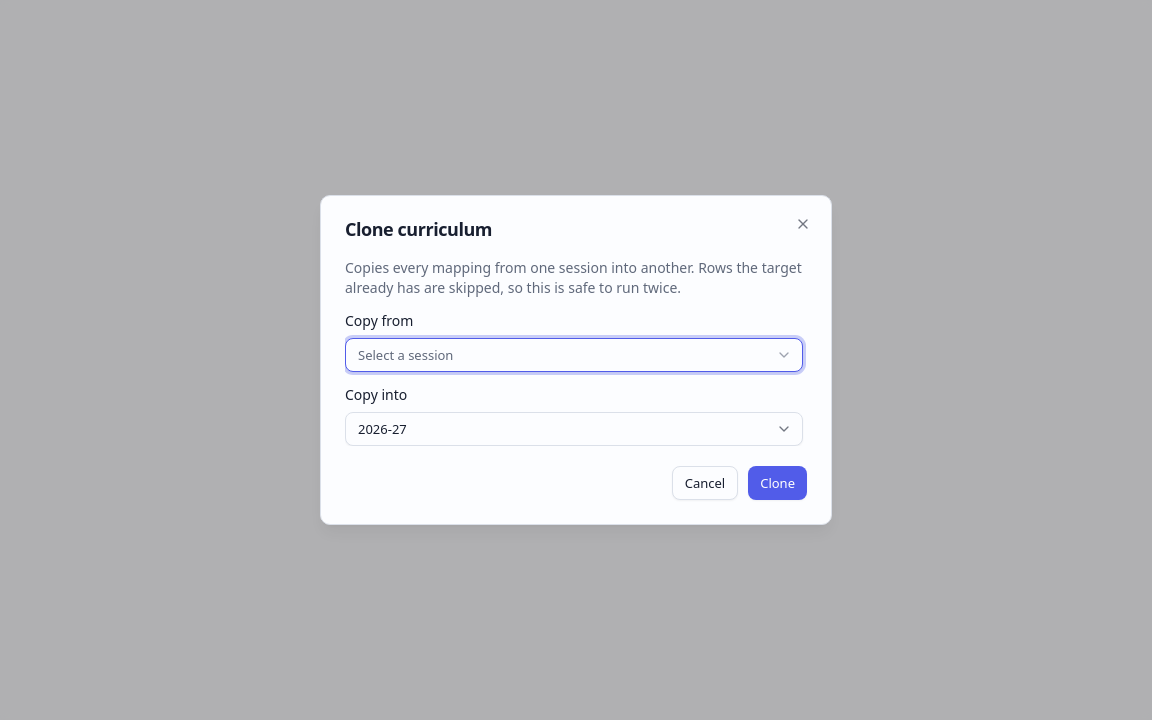
Test case: CloneCurriculumDialog › clears the source when the target moves onto it
Click the dropdown named "Copy from". click: x=406, y=355
box: top-left (345, 338), bottom-right (803, 372)
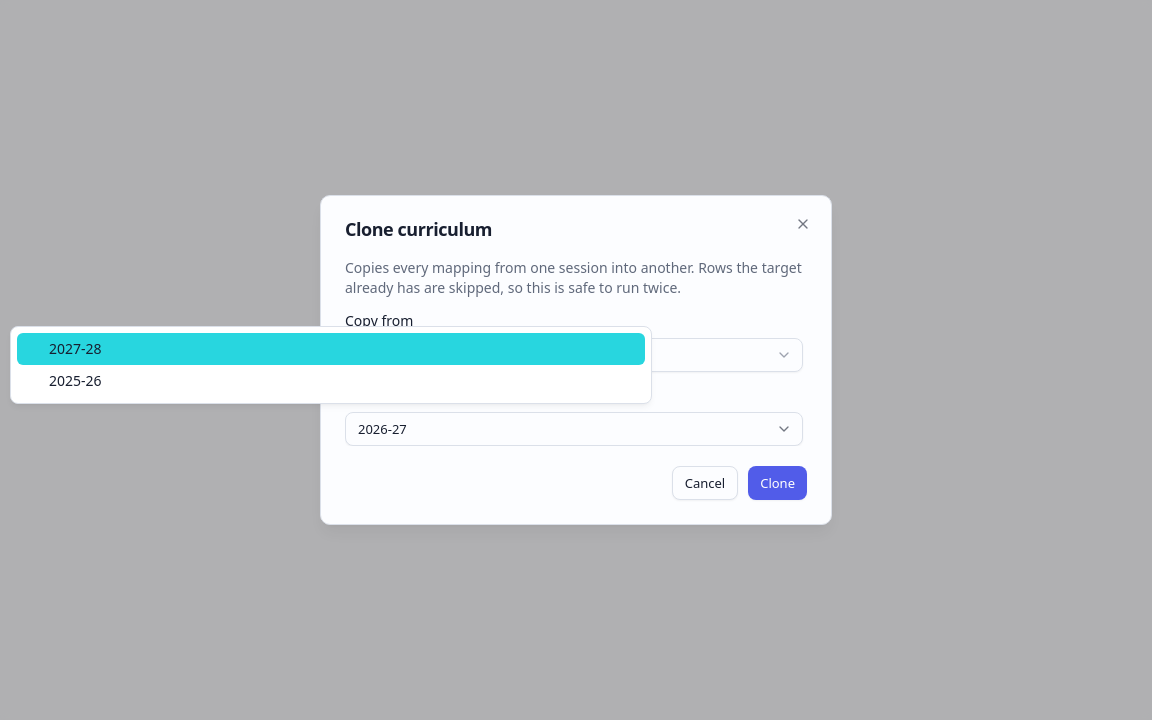
Click the option "2027-28". click: x=75, y=348
box: top-left (17, 333), bottom-right (645, 365)
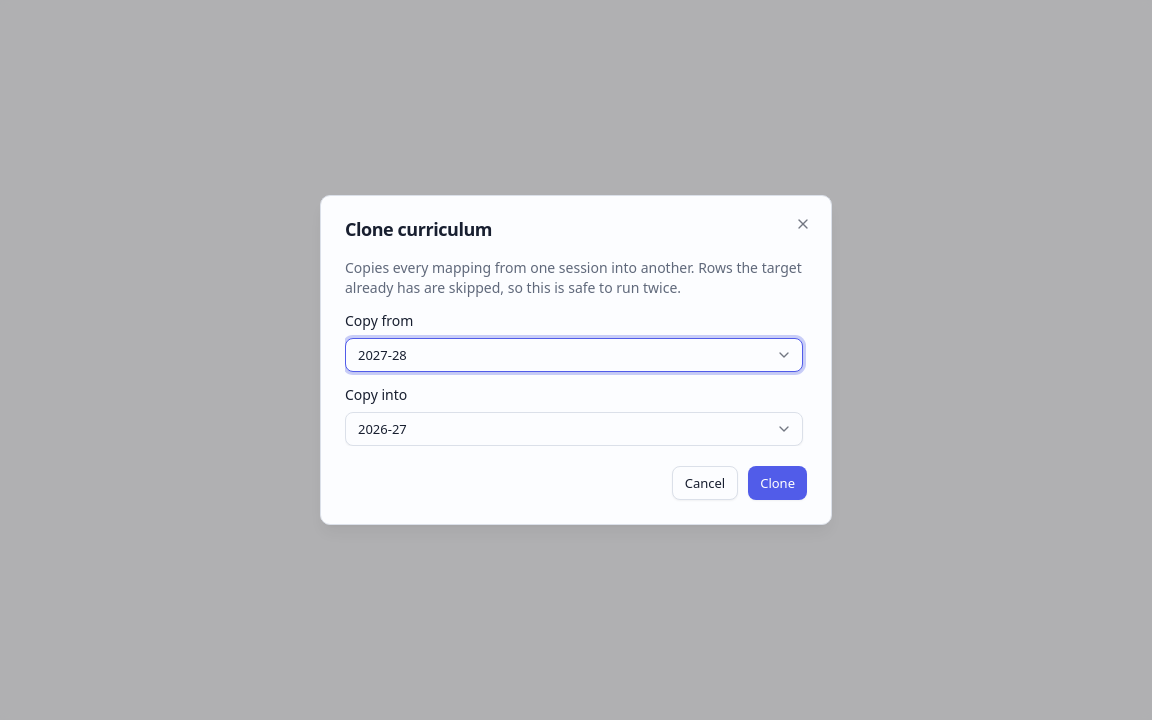
Check: the dropdown named "Copy from" reads "2027-28", box top-left (345, 338), bottom-right (803, 372)
Click the dropdown named "Copy into". click: x=382, y=429
box: top-left (345, 412), bottom-right (803, 446)
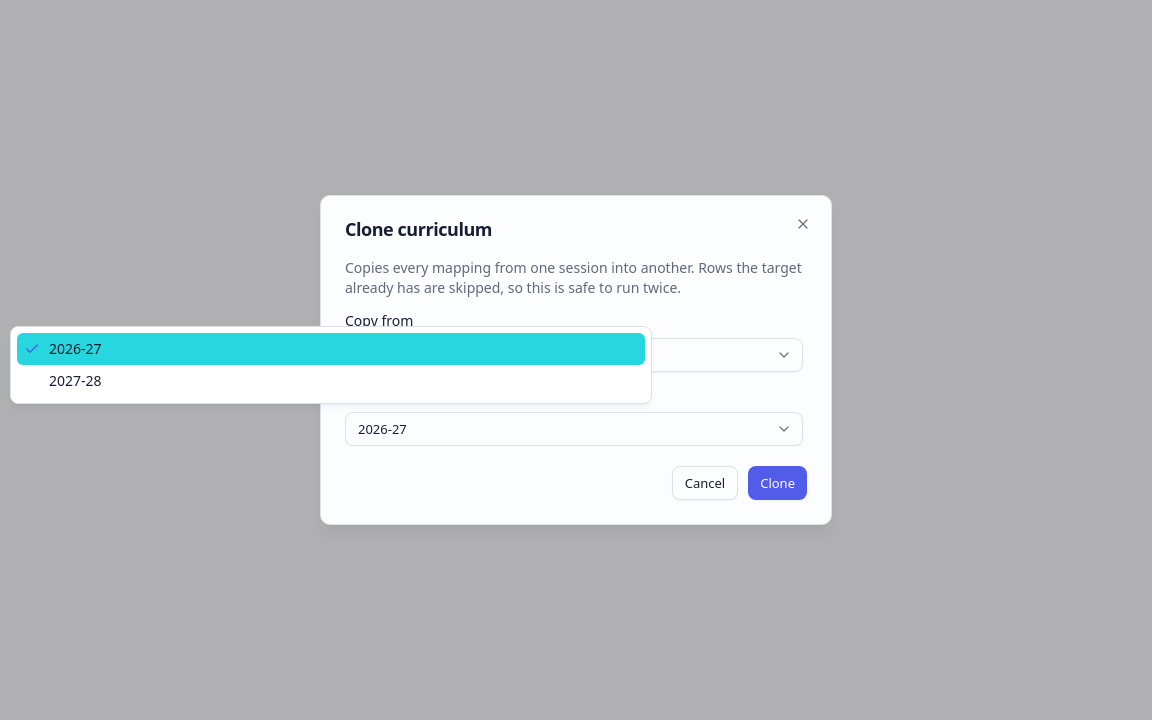
Click the option "2027-28". click: x=75, y=380
box: top-left (49, 371), bottom-right (102, 390)
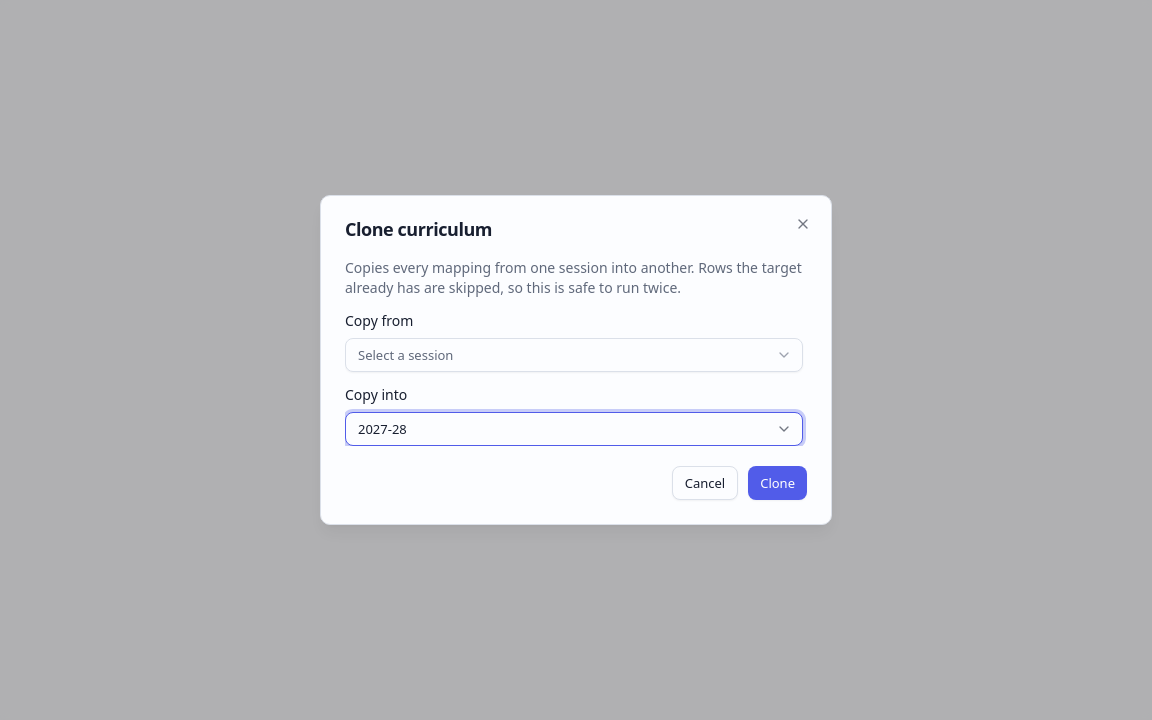
Check: the dropdown named "Copy from" reads "Select a session", box top-left (345, 338), bottom-right (803, 372)
